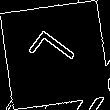L_SE: (26, 27, 84, 83)
